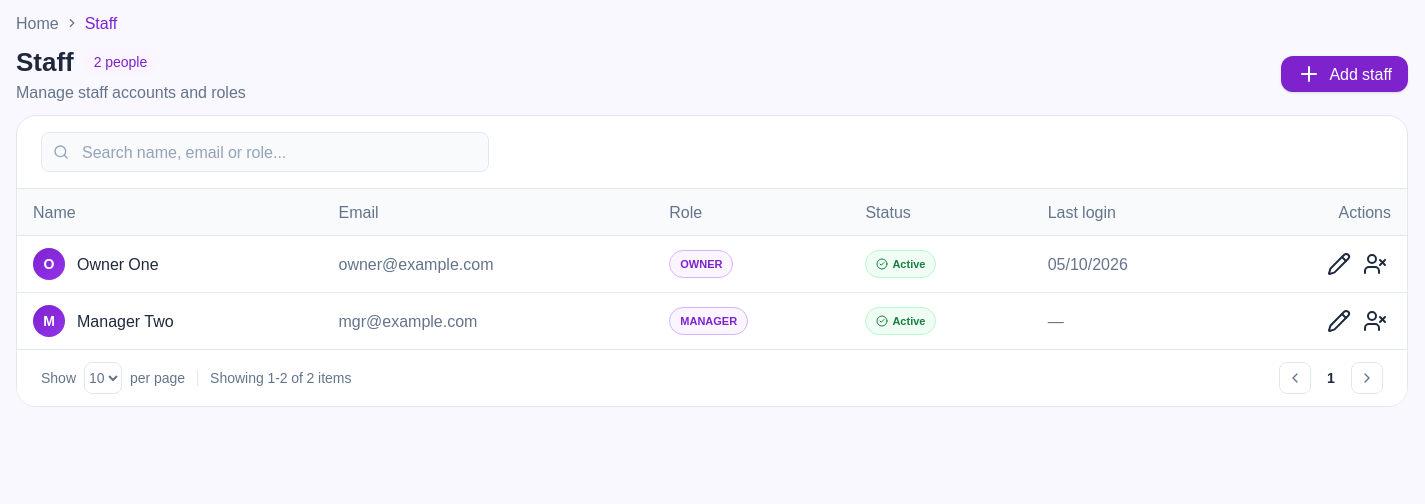
Test: StaffList › ຄົ້ນຫາກັ່ນຕອງຕາມຊື່/ອີເມວ/ບົດບາດ
This screenshot has width=1425, height=504.
expect the text "Owner One" is shown: met, box [77,252,158,274]
Type "manager" into the search field with placeholder "Search name, email or role..." at [265, 152], box [41,132,489,172]
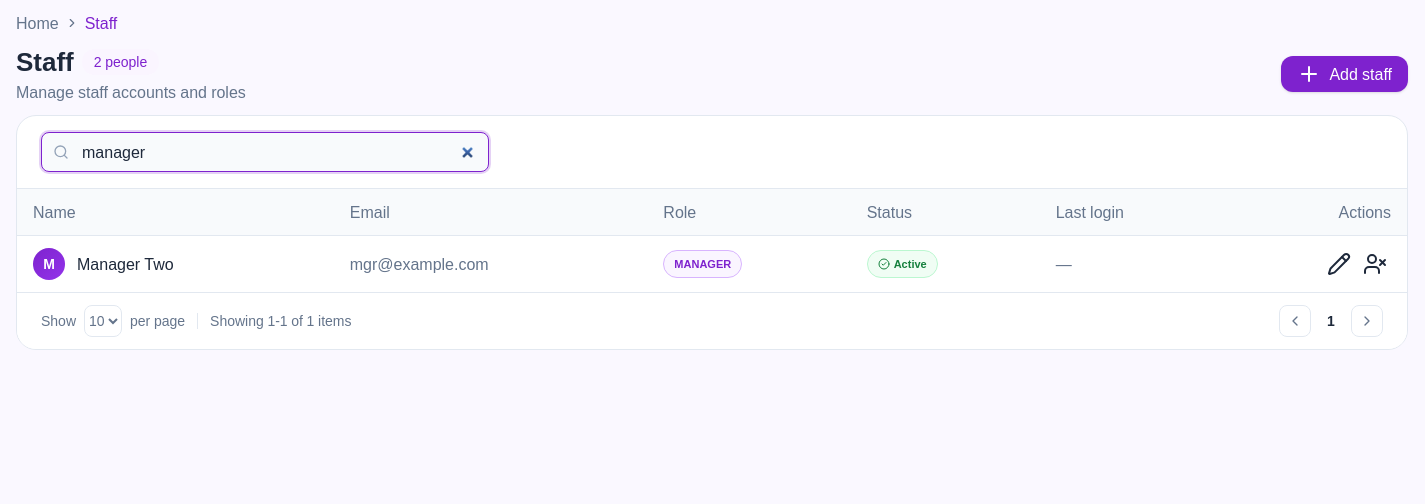
expect the text "Manager Two" is shown: met, box [77,252,174,274]
expect the text "Owner One" is gone: met
Replace the text in the search field with placeholder "Search name, email or role..." with "zzz" at [265, 152], box [41,132,489,172]
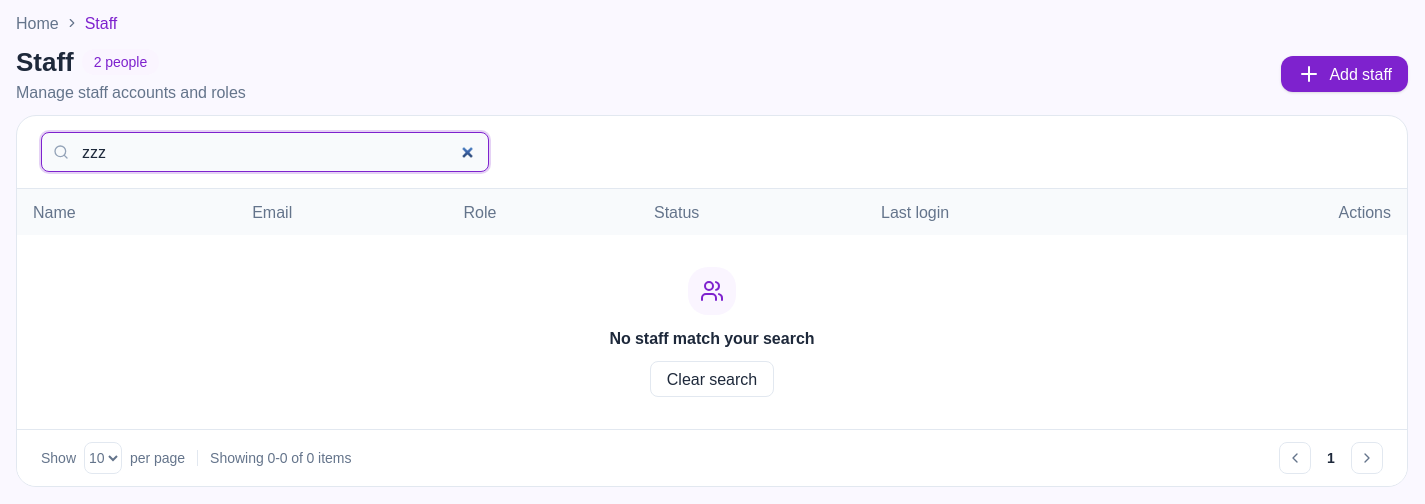
expect the text "No staff match your search" is shown: met, box [609,326,814,348]
